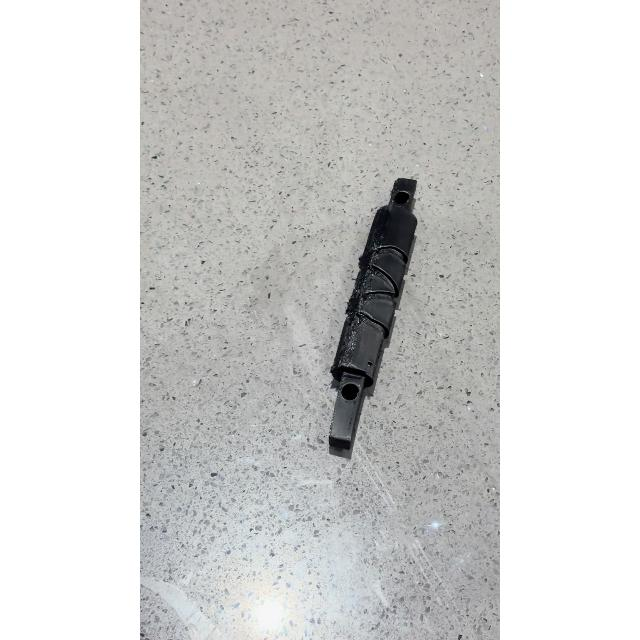Pieza_1: (312, 161, 442, 459)
